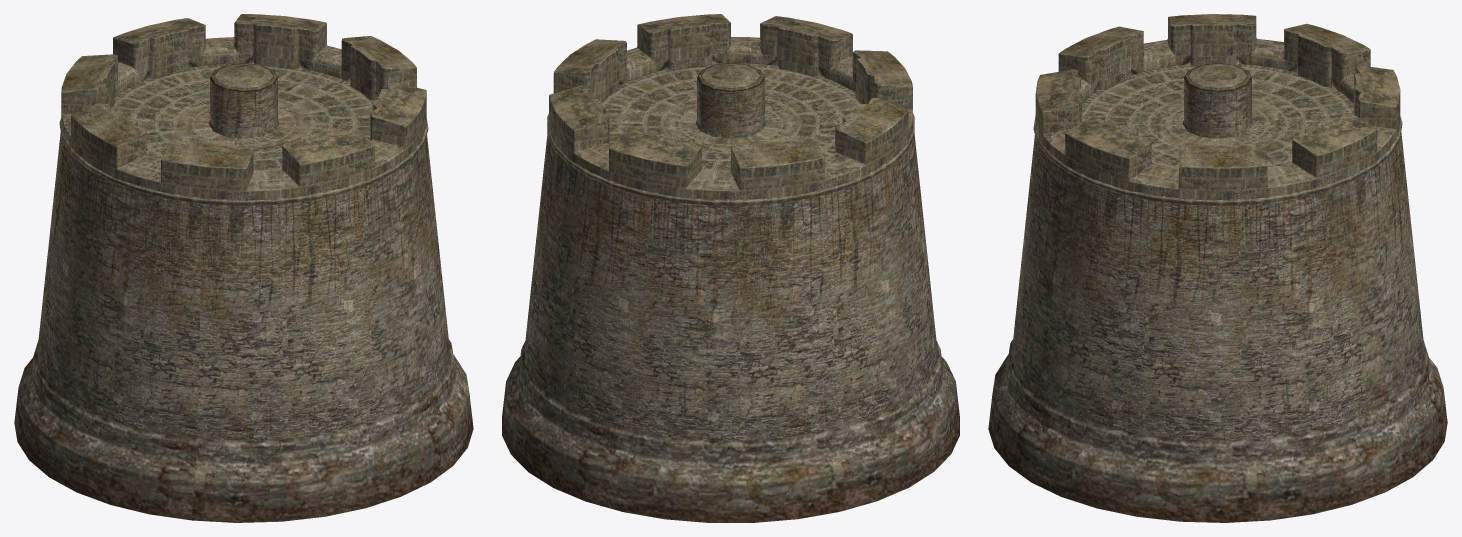
The model's file is citadel_tower.glb.
The picture shows the model from 3 angles, left to right: view 1: azimuth 30°, elevation 25°; view 2: azimuth 150°, elevation 25°; view 3: azimuth 270°, elevation 25°; orthographic projection.
Visible parts, largest first — view 1: modular_fort_01_tower_round; view 2: modular_fort_01_tower_round; view 3: modular_fort_01_tower_round.
Boxes of the visible parts, left/top/right/bottom form: modular_fort_01_tower_round: left=14, top=14, right=473, bottom=522; modular_fort_01_tower_round: left=502, top=14, right=959, bottom=522; modular_fort_01_tower_round: left=988, top=14, right=1447, bottom=522.
Size of the model in its own units: 15.84 by 13.5 by 15.84.
Materials: 2 (2 with a texture image).
